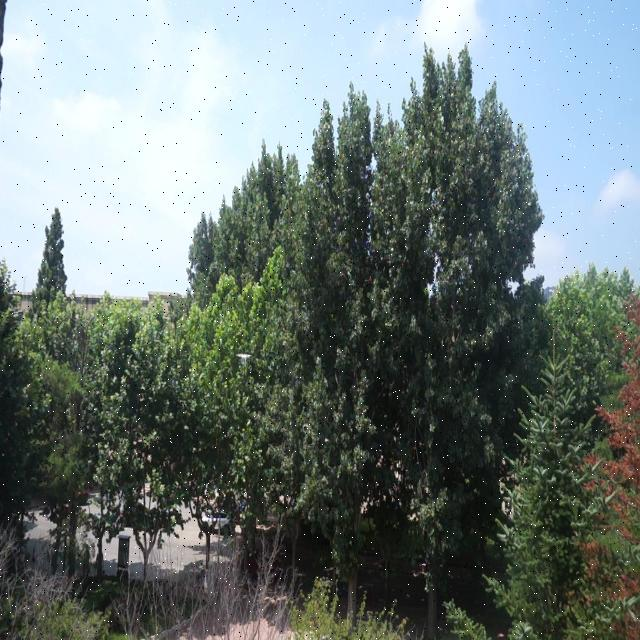UAV: (236, 354, 252, 364)
